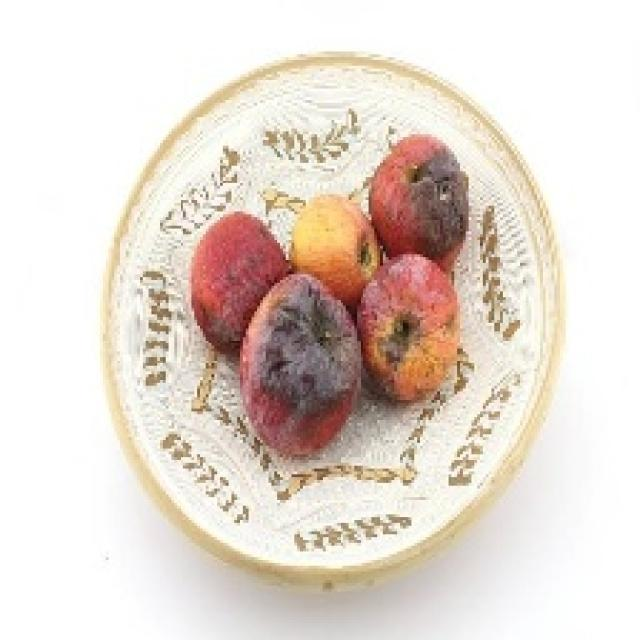rotten_apple: (243, 279, 359, 454), (363, 263, 458, 397), (372, 140, 471, 260), (194, 214, 284, 292)
